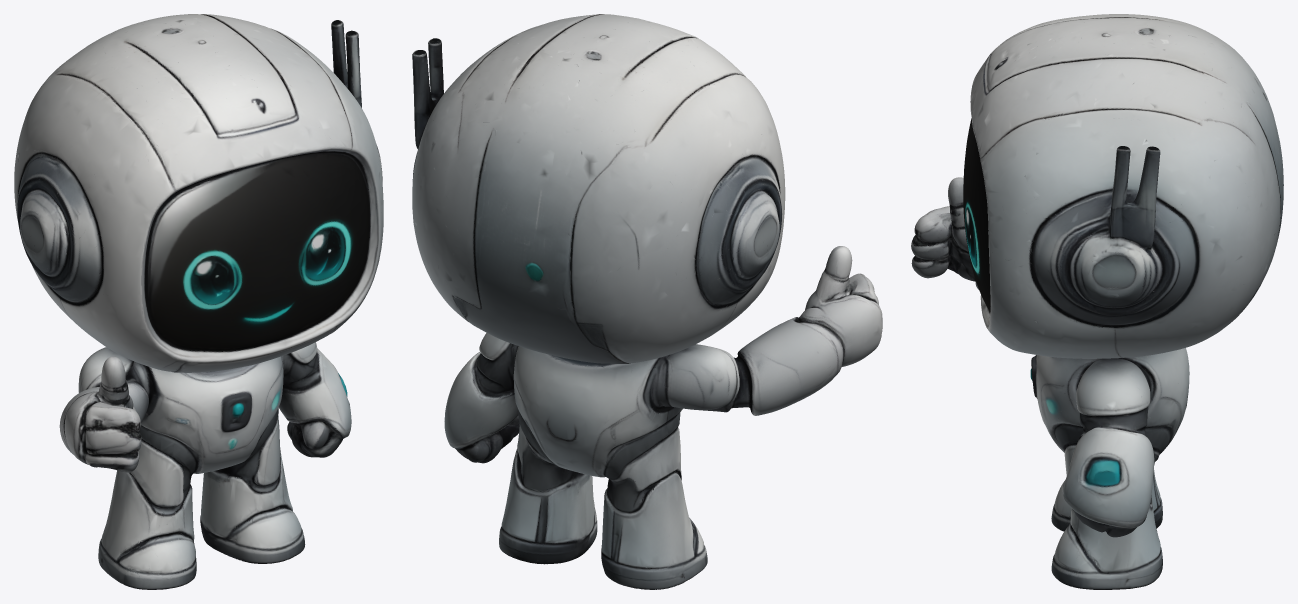
The model's file is robot_like.glb.
3 renders of one model, left to right at view 1: azimuth 30°, elevation 25°; view 2: azimuth 150°, elevation 25°; view 3: azimuth 270°, elevation 25°, orthographic.
Parts seen in each view (by area): view 1: geometry_0; view 2: geometry_0; view 3: geometry_0.
Boxes of the visible parts, x1,y1,x2,y2 form: geometry_0: [14, 14, 383, 589]; geometry_0: [412, 14, 882, 589]; geometry_0: [911, 14, 1283, 589].
Size of the model in its own units: 0.7587 by 1 by 0.6599.
1 material, 1 textured.
